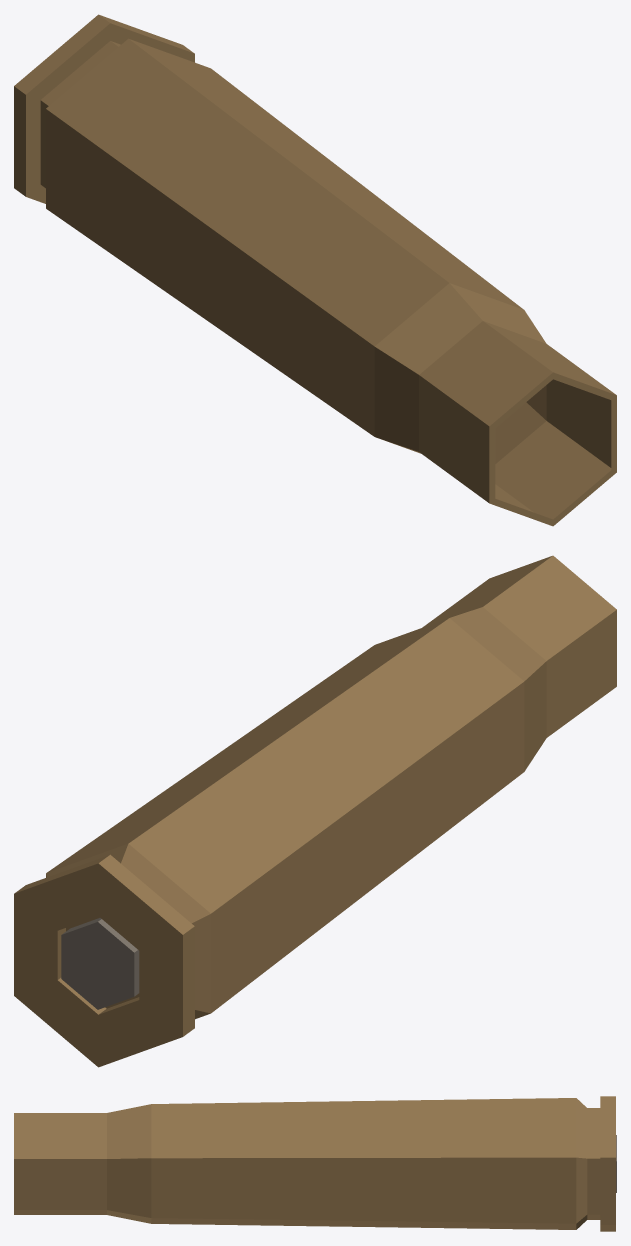
File: SM_MK14_EBR_Casing.fbx
3 renders of one model, top to bottom at view 1: azimuth 30°, elevation 25°; view 2: azimuth 150°, elevation 25°; view 3: azimuth 270°, elevation 25°, orthographic. The views are drawn at different scales.
Parts seen in each view (by area): view 1: SM_MK14_EBR_Casing; view 2: SM_MK14_EBR_Casing; view 3: SM_MK14_EBR_Casing.
Boxes of the visible parts, x1,y1,x2,y2 form: SM_MK14_EBR_Casing: [14, 14, 616, 526]; SM_MK14_EBR_Casing: [14, 555, 616, 1067]; SM_MK14_EBR_Casing: [14, 1096, 616, 1231].
Size of the model in its own units: 0.8394 by 0.9693 by 3.92.
